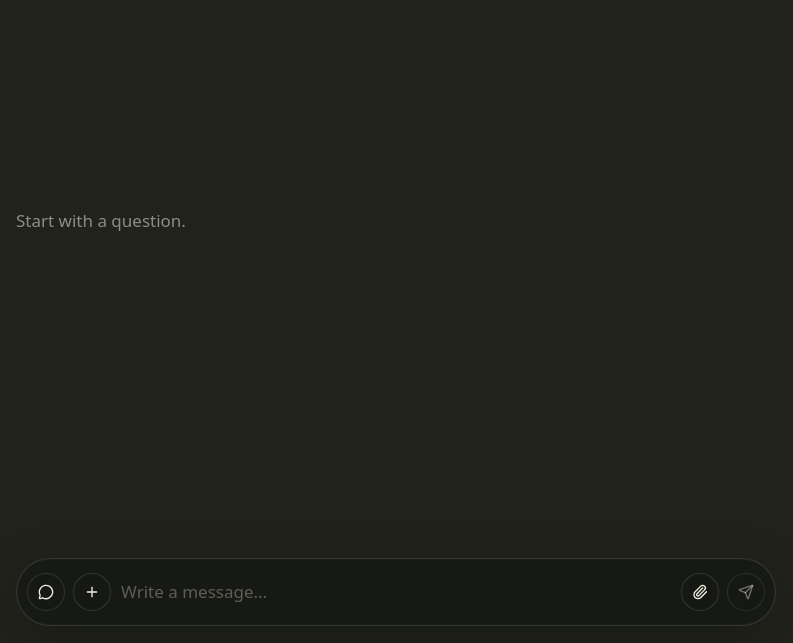
Test: approval decisions › keeps approval cancellation on the decision card while a run is paused
The width and height of the screenshot is (793, 643).
Type "approval please" into the text box with placeholder "Write a message...".
click(396, 592); type("approval please")  # box [121, 581, 671, 603]
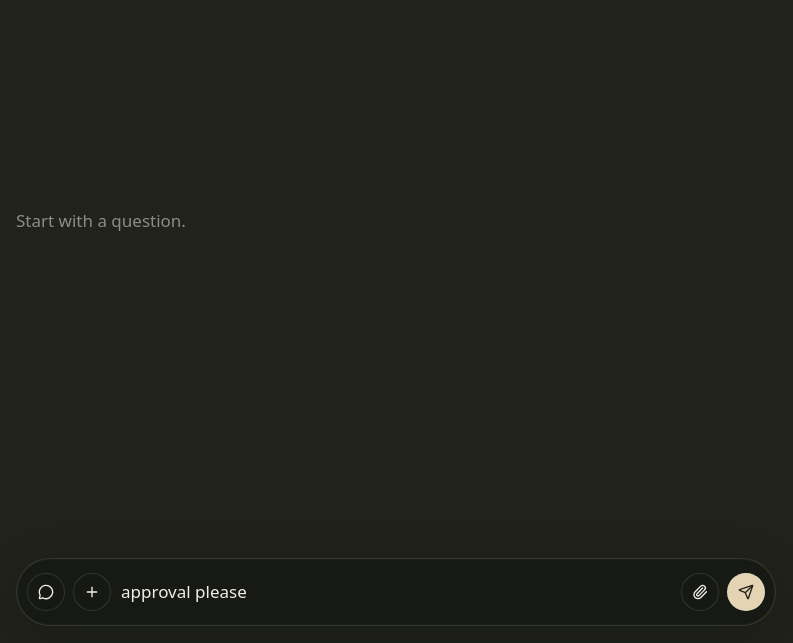
Click the button named "Send message".
click(746, 592)  # box [727, 573, 765, 611]
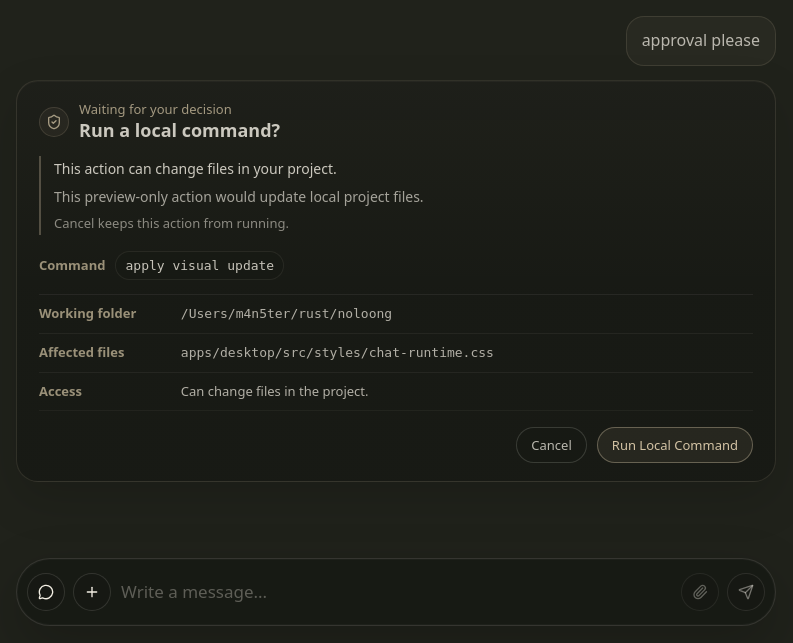
Expected: the button named "Send message" is disabled, [727, 573, 765, 611]
Click the button "Cancel".
click(552, 445)  # box [516, 427, 587, 463]
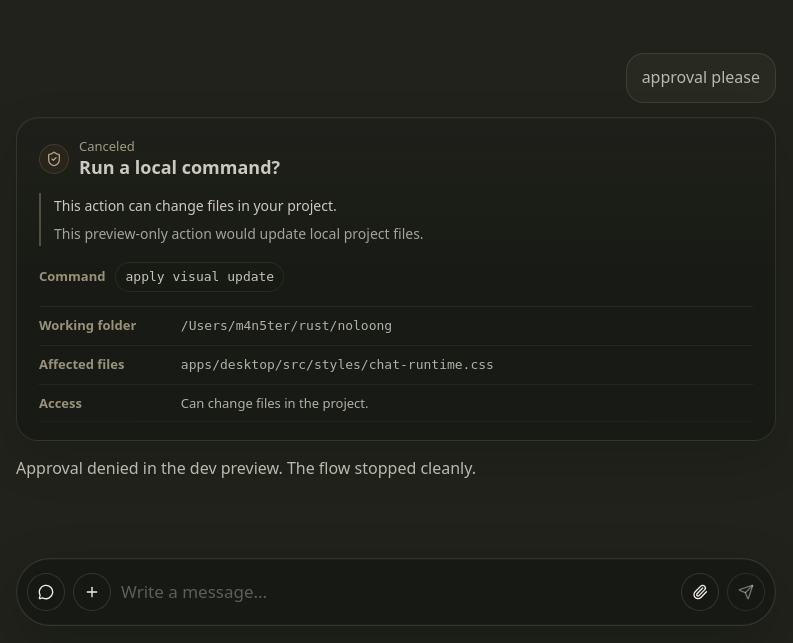
Expected: the text "Canceled" is shown, [79, 137, 135, 155]
Expected: the text "Cancel keeps this action from running." is gone
Expected: the button "Run Local Command" is gone
